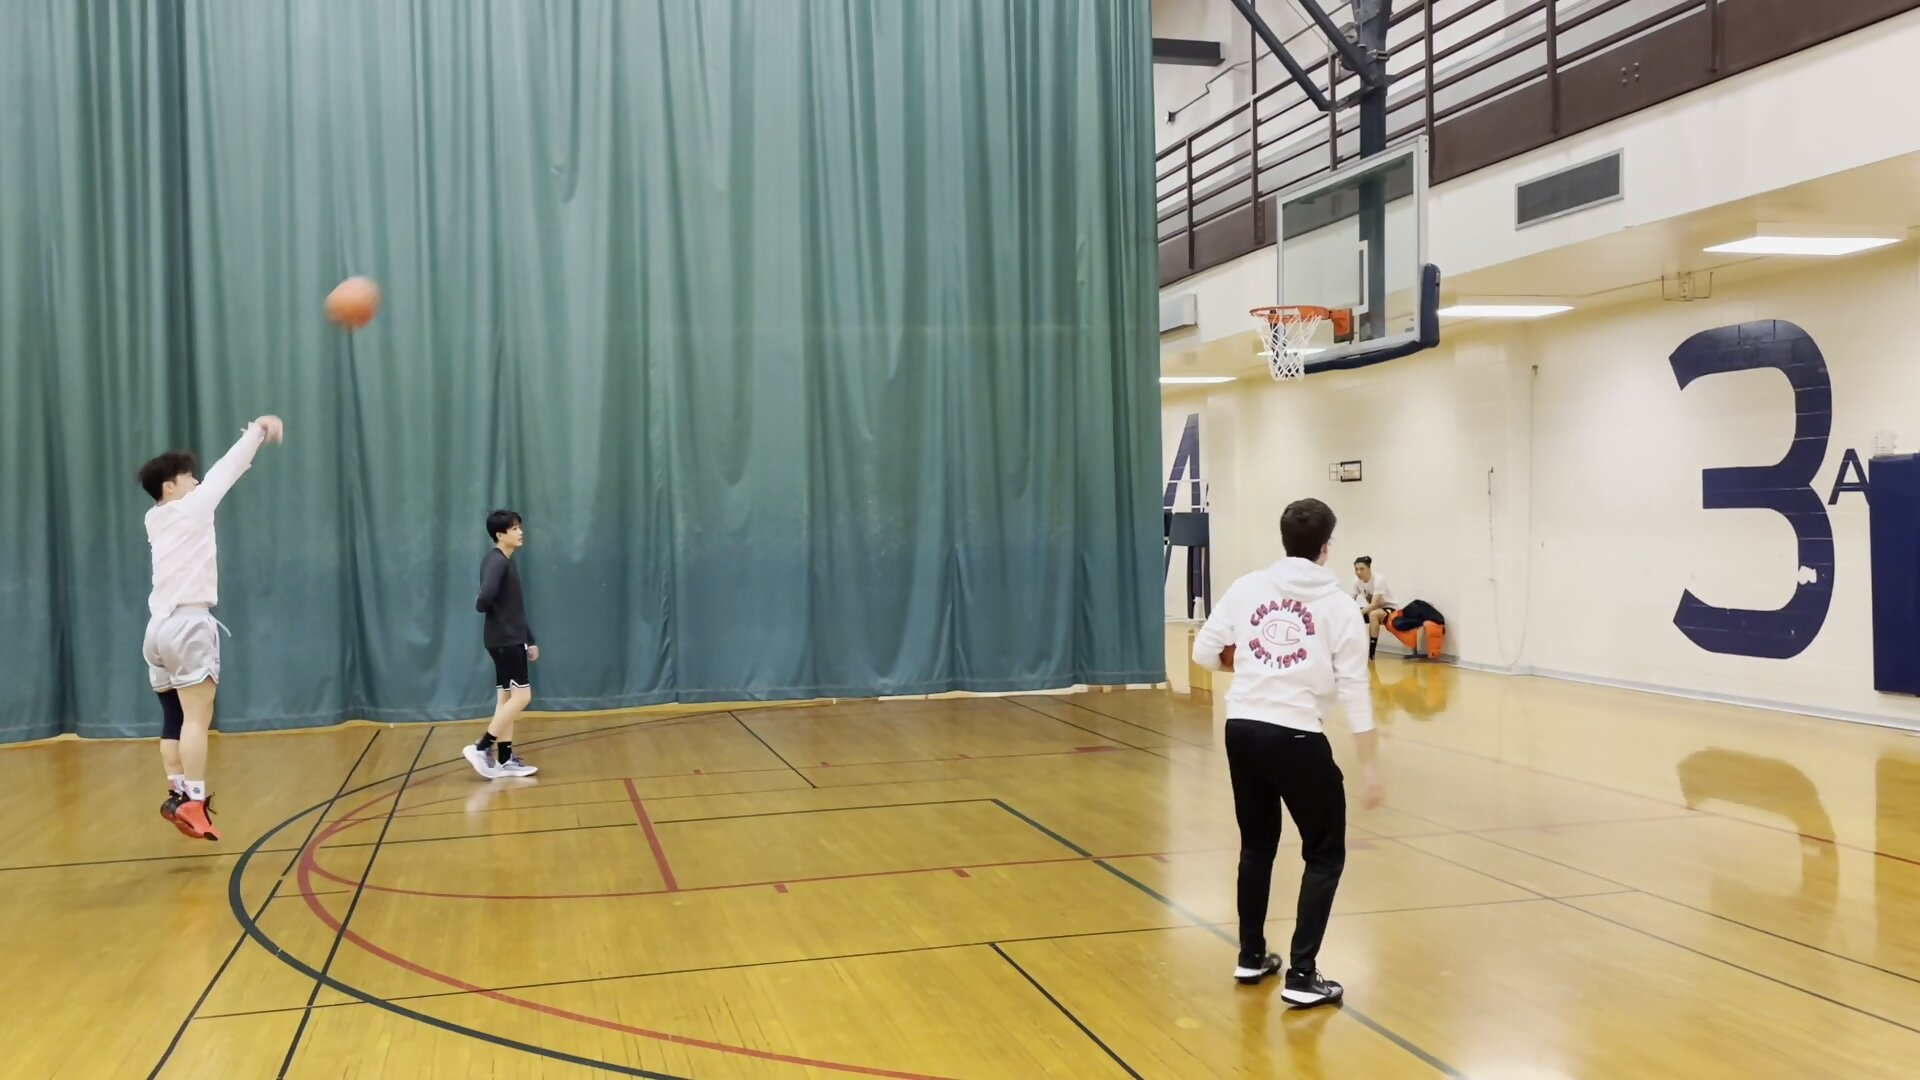ball: (322, 277, 387, 334)
net: (1259, 353, 1315, 384)
player: (1193, 495, 1369, 1024), (140, 414, 286, 844), (474, 506, 559, 792), (1345, 551, 1395, 624)
rim: (1245, 301, 1333, 326)
